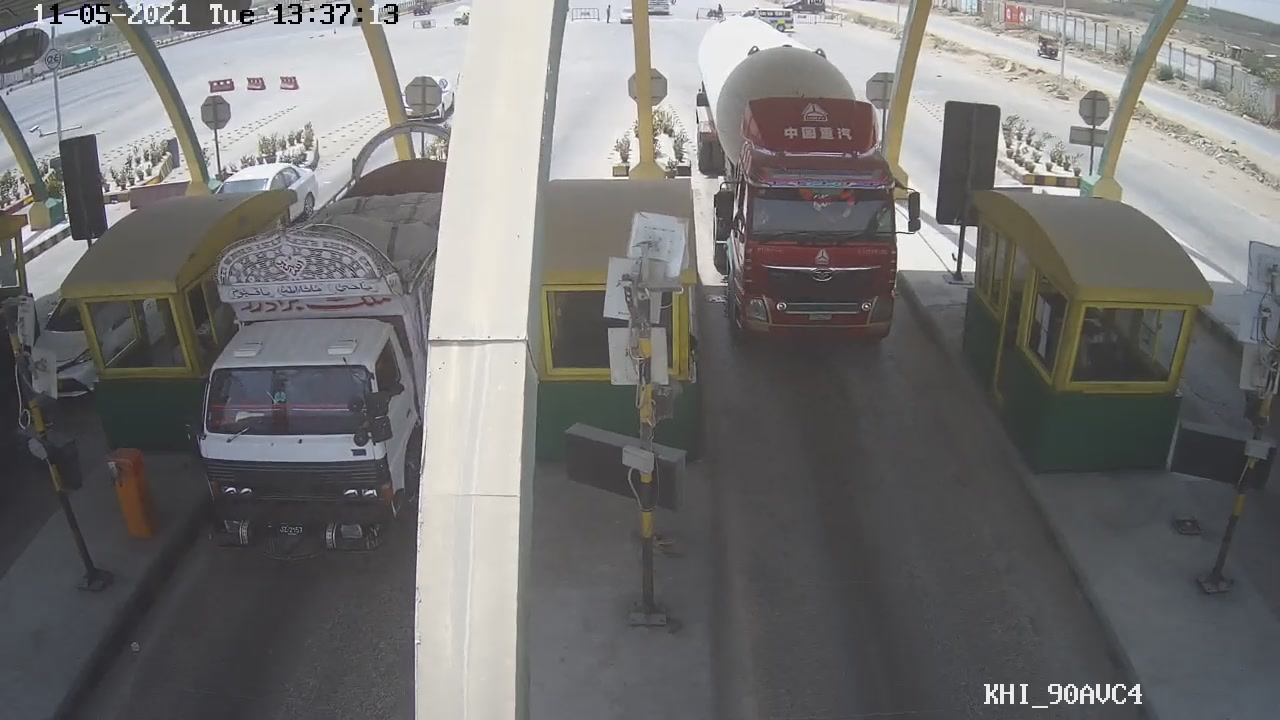F6: (698, 41, 916, 350)
